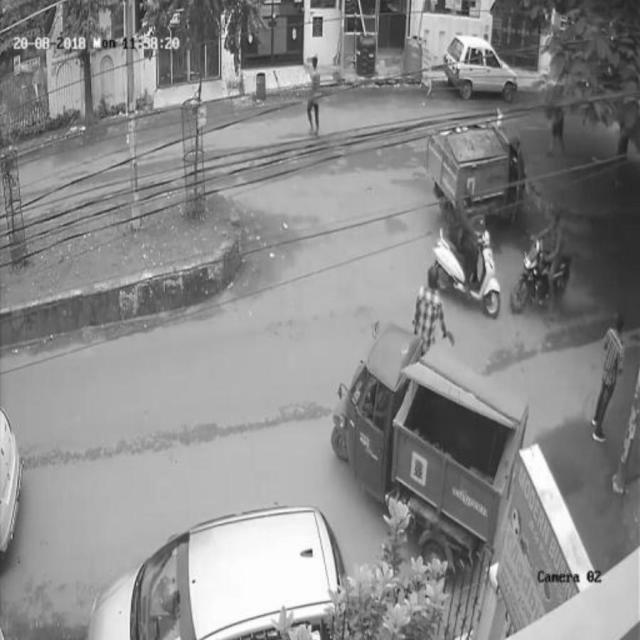person: (591, 308, 621, 450), (306, 53, 323, 139)
vehicle: (335, 325, 529, 556), (84, 503, 354, 637), (425, 115, 529, 226), (431, 201, 499, 319), (438, 30, 519, 103), (520, 215, 570, 311)
